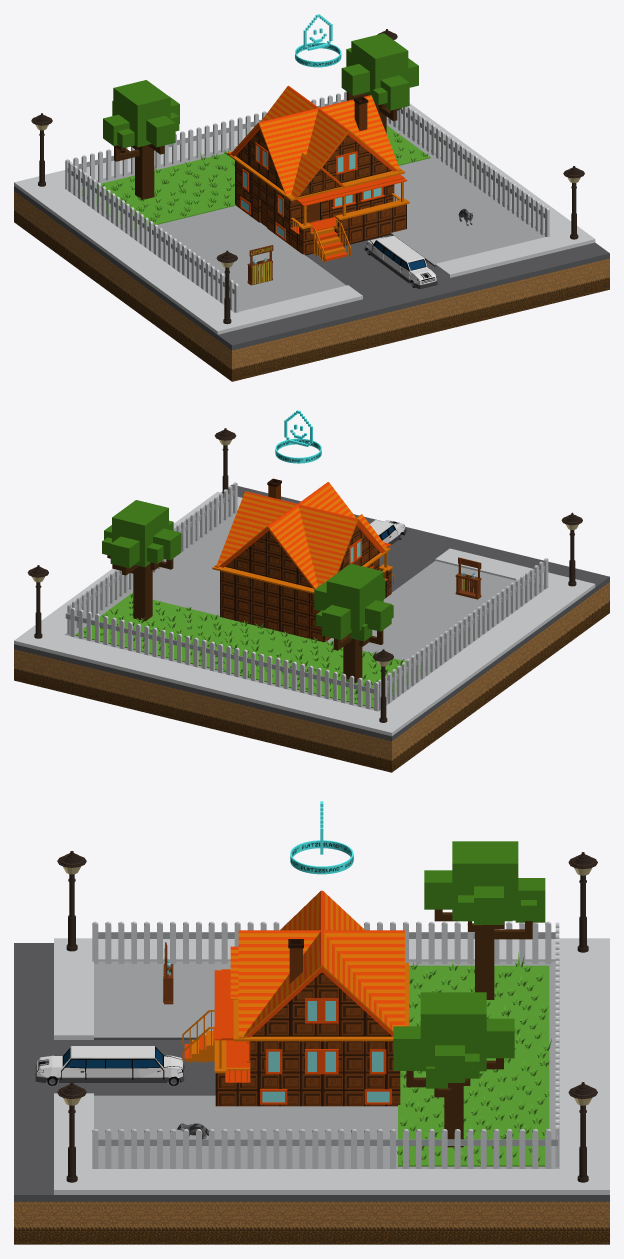
3 views of the same model, one above another, from view 1: azimuth 30°, elevation 25°; view 2: azimuth 150°, elevation 25°; view 3: azimuth 270°, elevation 25° (orthographic). The views are drawn at different scales.
Visible parts, largest first — view 1: Cube.004, Cube, VEHICLES_LIMOUSINE, TYPE_PREMIUM, OBJRANDOM_LEMONADE_STAND; view 2: Cube.004, Cube, TYPE_PREMIUM, OBJRANDOM_LEMONADE_STAND, VEHICLES_LIMOUSINE; view 3: Cube.004, Cube, VEHICLES_LIMOUSINE, TYPE_PREMIUM.
Boxes of the visible parts, box(x1,y1,x2,y2) form: Cube.004: box(14, 29, 609, 381); Cube: box(226, 85, 409, 262); VEHICLES_LIMOUSINE: box(364, 235, 437, 288); TYPE_PREMIUM: box(295, 14, 341, 67); OBJRANDOM_LEMONADE_STAND: box(247, 245, 273, 285); Cube.004: box(14, 428, 609, 772); Cube: box(212, 478, 394, 642); TYPE_PREMIUM: box(275, 410, 321, 463); OBJRANDOM_LEMONADE_STAND: box(455, 557, 481, 599); VEHICLES_LIMOUSINE: box(370, 520, 406, 544); Cube.004: box(14, 841, 609, 1244); Cube: box(182, 890, 408, 1106); VEHICLES_LIMOUSINE: box(35, 1046, 184, 1085); TYPE_PREMIUM: box(290, 801, 353, 874).
Bounding box in the file's own units: 4000 × 2417 × 4000.
Materials: 36 (6 with a texture image).
